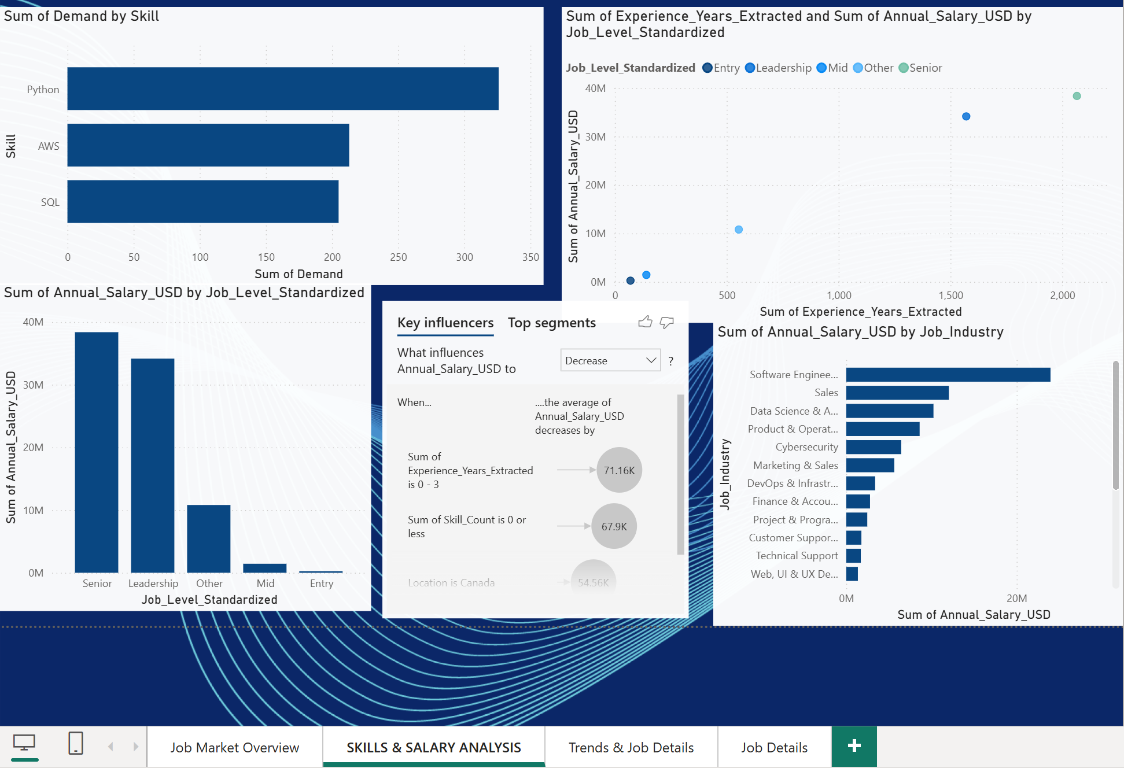

The dashboard page shown, as its layout file describes it:
{"tool":"powerbi","page":{"name":"SKILLS & SALARY ANALYSIS","canvas":[1280,720],"ordinal":1},"visuals":[{"type":"clusteredBarChart","fields":{"Category":["Skill Demand.Skill"],"Y":["Sum(Skill Demand.Demand)"]},"box":[0,14.4,620,317.1],"z":0},{"type":"columnChart","fields":{"Category":["cleaned_job_market_data.Job_Level_Standardized"],"Y":["Sum(cleaned_job_market_data.Annual_Salary_USD)"]},"box":[0,330,423.3,373.3],"z":1000},{"type":"scatterChart","fields":{"X":["Sum(cleaned_job_market_data.Experience_Years_Extracted)"],"Y":["Sum(cleaned_job_market_data.Annual_Salary_USD)"],"Series":["cleaned_job_market_data.Job_Level_Standardized"]},"box":[640,14.3,641.4,360],"z":2000},{"type":"barChart","fields":{"Category":["cleaned_job_market_data.Job_Industry"],"Y":["Sum(cleaned_job_market_data.Annual_Salary_USD)"]},"box":[813.3,374.4,467.8,345.6],"z":3000},{"type":"keyDriversVisual","fields":{"Target":["cleaned_job_market_data.Annual_Salary_USD"],"ExplainBy":["Sum(cleaned_job_market_data.Experience_Years_Extracted)","cleaned_job_market_data.Job_Level_Standardized","Sum(cleaned_job_market_data.Skill_Count)","cleaned_job_market_data.Job_Industry","cleaned_job_market_data.Employment_Type_Standardized","cleaned_job_market_data.Location"]},"box":[436.7,348.9,348.9,362.2],"z":3001}]}

Visuals, with their boxes in screenshot pixels (x1, y1, x2, y2):
clusteredBarChart - Skill Demand.Skill x Sum(Skill Demand.Demand): 6:7:543:281
columnChart - cleaned_job_market_data.Job_Level_Standardized x Sum(cleaned_job_market_data.Annual_Salary_USD): 6:280:372:603
scatterChart - Sum(cleaned_job_market_data.Experience_Years_Extracted) x Sum(cleaned_job_market_data.Annual_Salary_USD): 560:7:1116:318
barChart - cleaned_job_market_data.Job_Industry x Sum(cleaned_job_market_data.Annual_Salary_USD): 710:318:1115:618
keyDriversVisual - cleaned_job_market_data.Annual_Salary_USD x Sum(cleaned_job_market_data.Experience_Years_Extracted): 384:296:686:610
